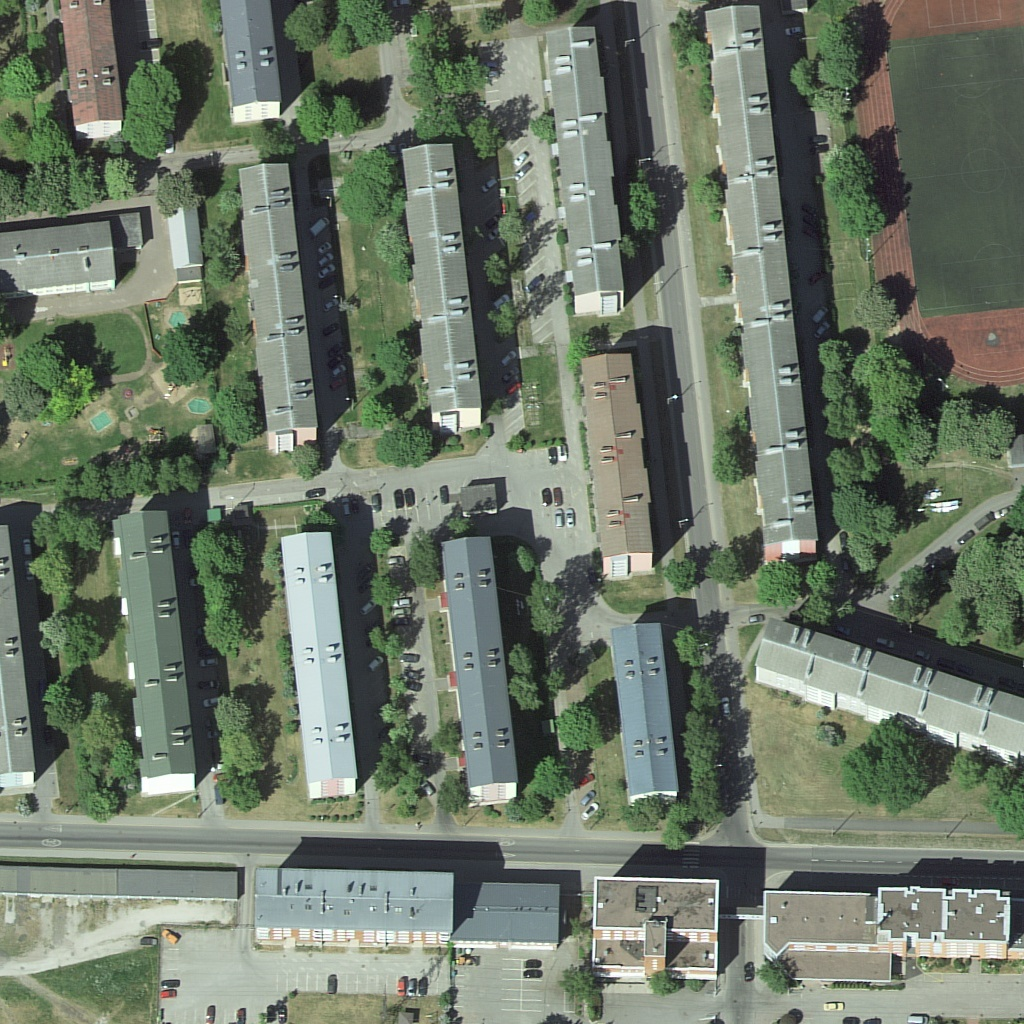building: (701, 5, 823, 564), (751, 615, 1020, 763), (542, 23, 629, 318), (401, 142, 487, 433), (235, 161, 321, 450), (114, 508, 197, 796), (277, 529, 361, 806), (436, 533, 517, 804), (578, 348, 663, 578), (252, 863, 454, 950), (590, 876, 722, 984), (609, 621, 683, 805), (875, 884, 1010, 963), (57, 2, 124, 141), (758, 885, 877, 957), (8, 219, 120, 295), (221, 1, 282, 126), (456, 881, 563, 951)
